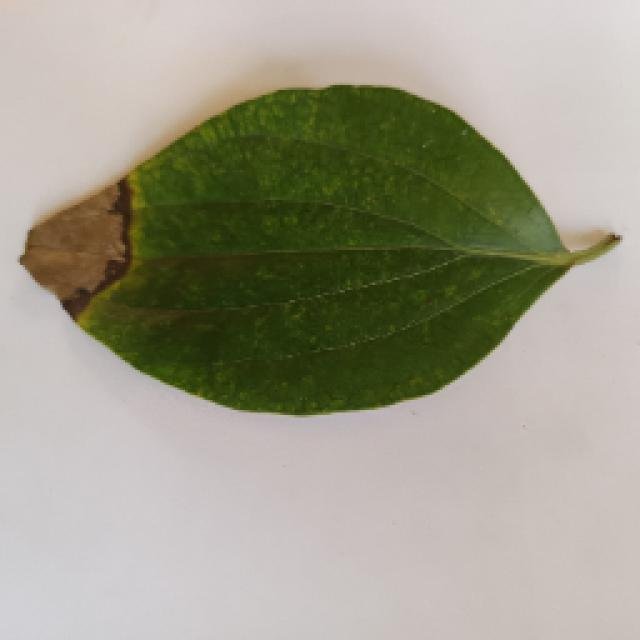footrot: (12, 85, 618, 410)
